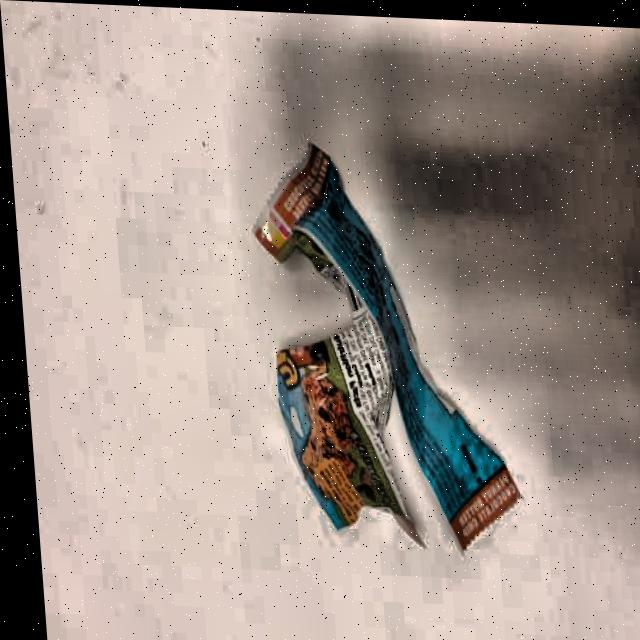trash: (244, 136, 528, 555)
